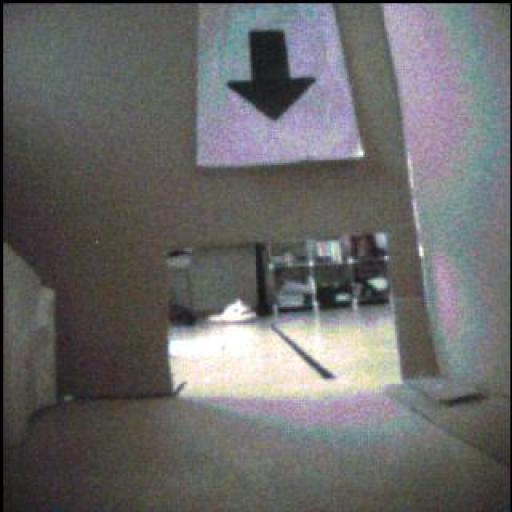arrow: (228, 31, 316, 121)
